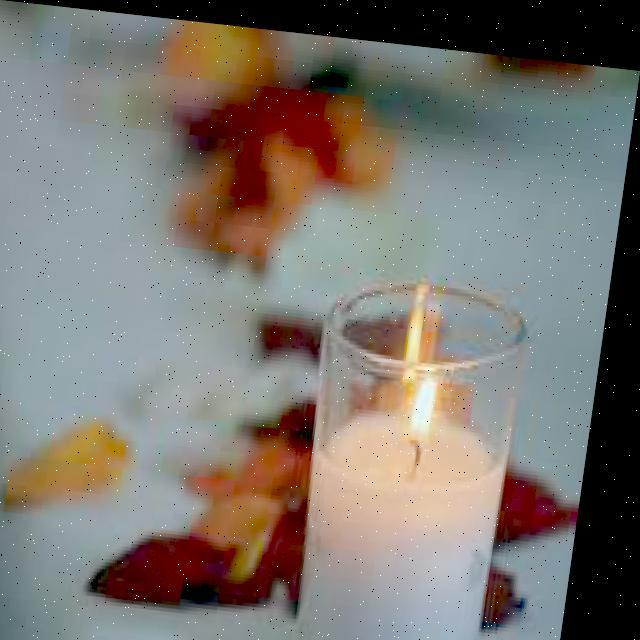Fire: (404, 350, 454, 434)
